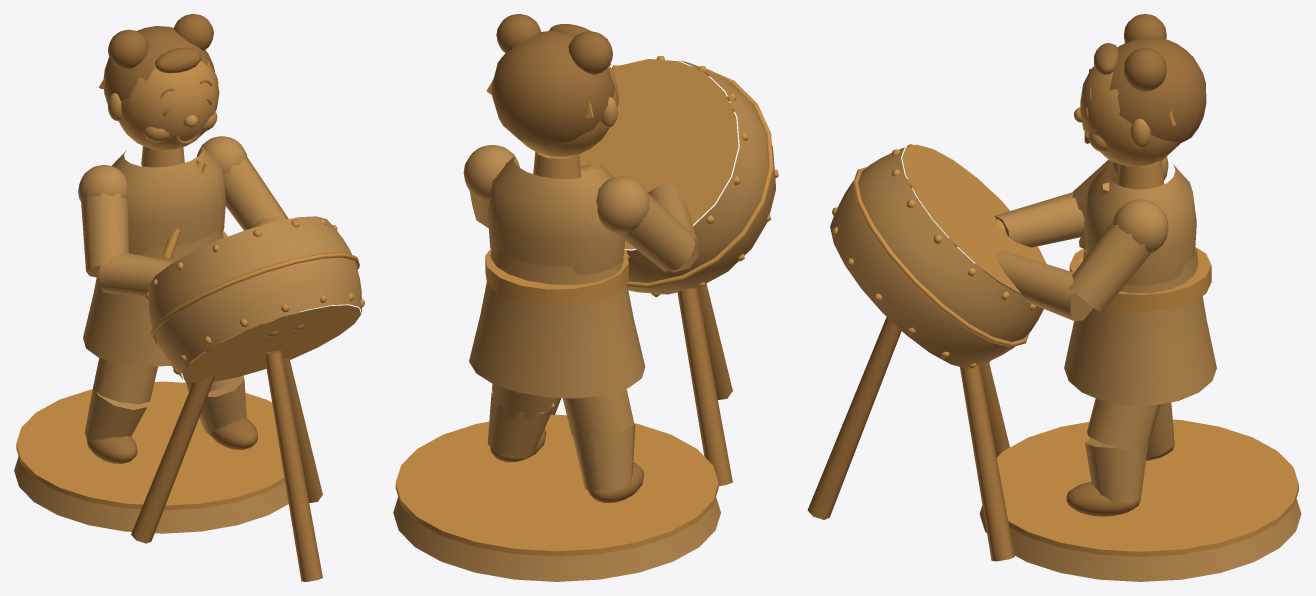
Rendered from tongzi-jigu.glb.
3 views of the same model, side by side, from view 1: azimuth 30°, elevation 25°; view 2: azimuth 150°, elevation 25°; view 3: azimuth 270°, elevation 25° (orthographic). The views are drawn at different scales.
Visible parts, largest first — view 1: body, armR, armL; view 2: body, armR, armL; view 3: body, armL, armR.
Part boxes in pixels (x1,y1,x2,y2): body: (14,14,364,581); armR: (78,165,278,337); armL: (197,136,305,330); body: (393,14,778,581); armR: (596,176,698,272); armL: (463,145,598,228); body: (807,14,1301,581); armL: (975,199,1168,321); armR: (949,156,1168,247).
Bounding box in the file's own units: 0.68 × 1.13 × 1.04.
